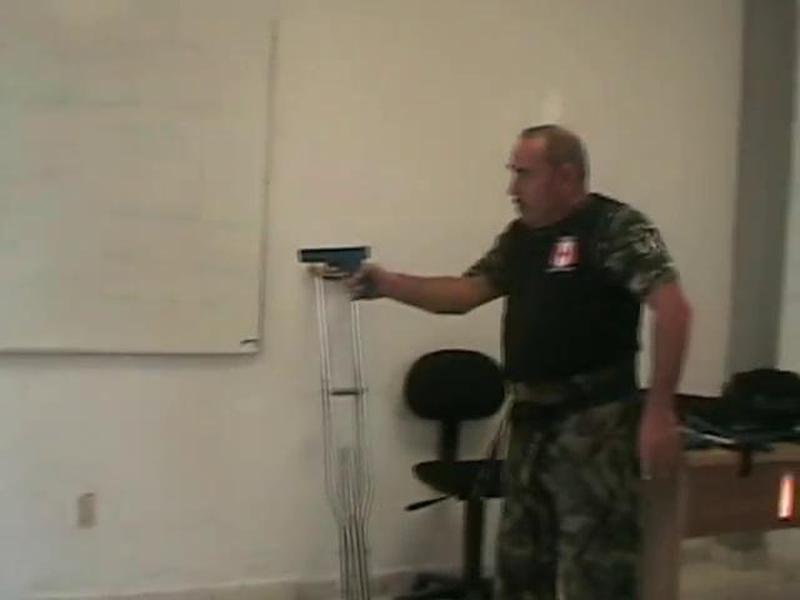Pistola: (281, 230, 383, 307)
